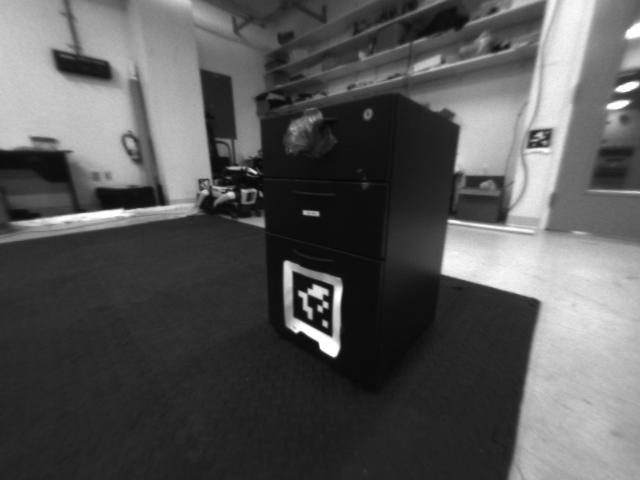drawer: (273, 106, 330, 165)
